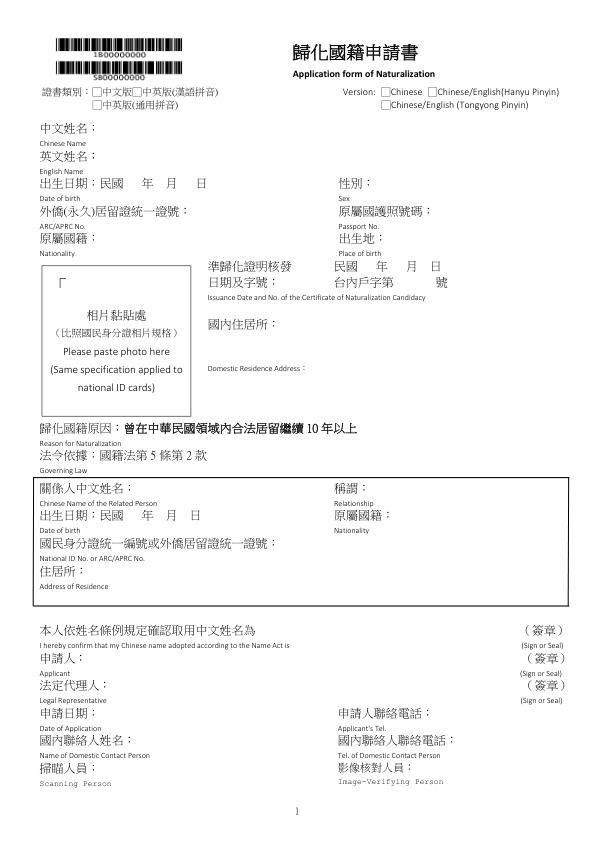check_box: (91, 99, 103, 112), (379, 99, 391, 112), (91, 86, 103, 98), (427, 86, 438, 99), (131, 87, 143, 98), (380, 87, 391, 98)
text: (38, 420, 360, 448), (38, 620, 293, 651), (206, 275, 456, 304), (48, 346, 186, 396), (285, 39, 440, 80), (38, 537, 281, 563), (36, 177, 212, 202), (38, 449, 209, 474), (38, 509, 202, 535), (55, 309, 179, 341), (38, 205, 194, 230), (37, 481, 159, 508), (335, 734, 455, 760), (207, 260, 445, 273), (335, 761, 449, 788), (38, 733, 151, 760), (334, 706, 435, 733), (335, 203, 432, 231), (38, 762, 113, 789), (38, 679, 115, 705), (37, 566, 114, 591), (38, 231, 99, 259), (37, 708, 105, 732), (36, 121, 98, 147), (36, 149, 98, 175), (438, 87, 561, 100), (331, 509, 391, 535), (391, 100, 530, 111), (205, 314, 278, 333), (518, 679, 571, 705), (521, 623, 570, 651), (336, 232, 390, 257), (205, 363, 311, 375), (518, 653, 569, 677), (332, 482, 378, 507), (39, 652, 83, 677), (103, 99, 181, 113), (143, 86, 220, 98), (336, 175, 370, 202), (39, 86, 89, 98), (340, 87, 377, 97), (390, 86, 423, 97), (103, 86, 131, 98)
